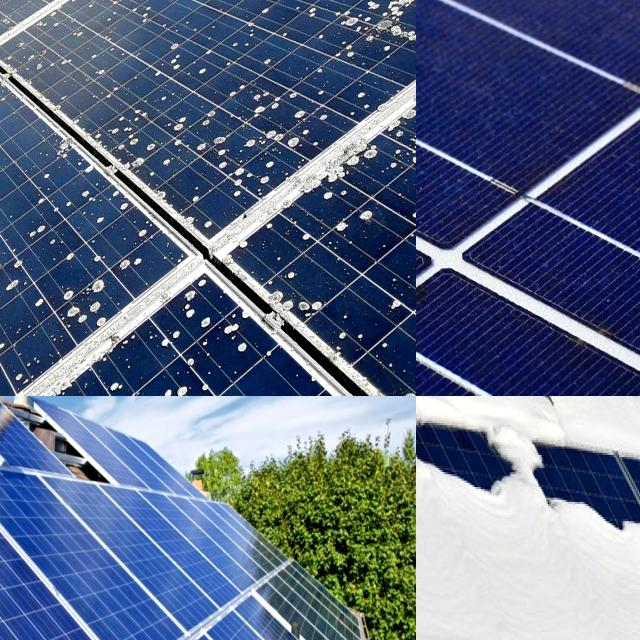bird: (416, 200, 529, 379), (182, 278, 262, 367), (45, 278, 125, 328), (258, 91, 316, 152), (169, 110, 233, 164), (163, 20, 214, 84), (321, 136, 383, 188), (39, 160, 99, 212), (0, 284, 37, 353), (105, 102, 147, 162), (368, 0, 416, 50), (388, 111, 416, 195), (0, 179, 29, 256), (267, 286, 329, 320), (0, 270, 23, 333), (390, 284, 416, 332), (334, 214, 378, 242), (140, 371, 189, 396), (229, 168, 268, 198), (0, 110, 21, 165), (0, 365, 37, 396), (0, 55, 21, 96), (0, 139, 17, 171), (398, 369, 416, 396)
crack: (28, 461, 269, 640), (0, 442, 211, 640), (0, 439, 168, 640)
panel: (438, 442, 542, 522), (514, 396, 587, 459), (416, 404, 492, 464), (566, 482, 640, 543), (416, 434, 467, 499), (598, 396, 640, 472), (467, 396, 527, 437), (416, 396, 453, 449), (450, 396, 520, 423), (416, 602, 450, 640), (416, 396, 451, 431), (416, 396, 455, 425), (416, 396, 442, 437), (416, 624, 476, 640), (416, 396, 450, 423), (416, 396, 431, 426)
